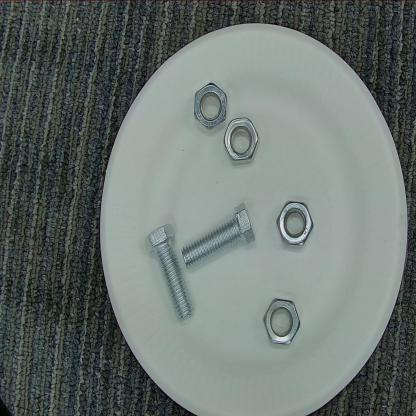FOD: (139, 221, 194, 321), (180, 204, 258, 268), (263, 295, 301, 347), (221, 114, 260, 163), (277, 198, 312, 252), (192, 82, 228, 131)
